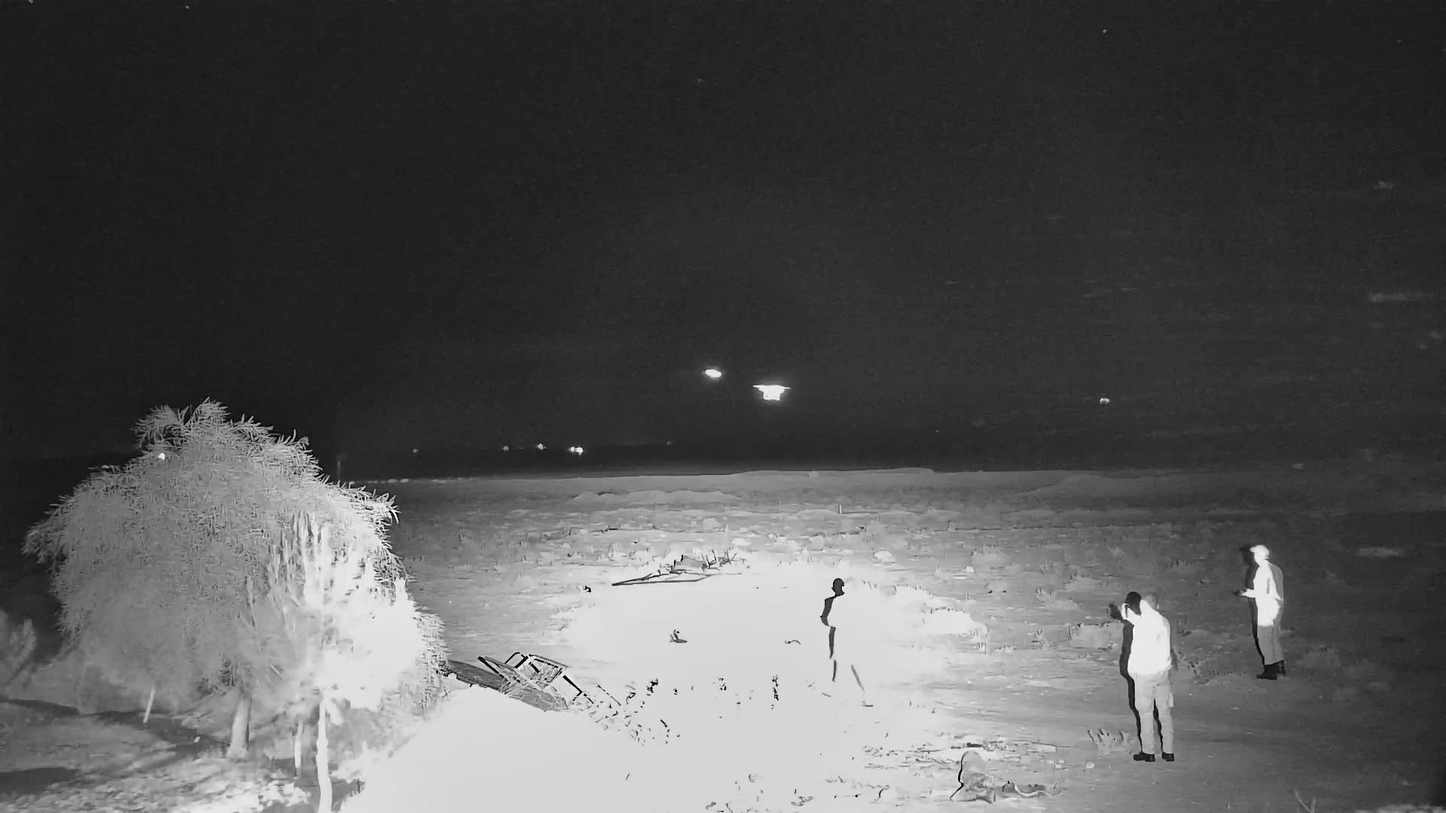DJI-Phantom: (757, 375, 793, 407), (701, 354, 730, 386)
